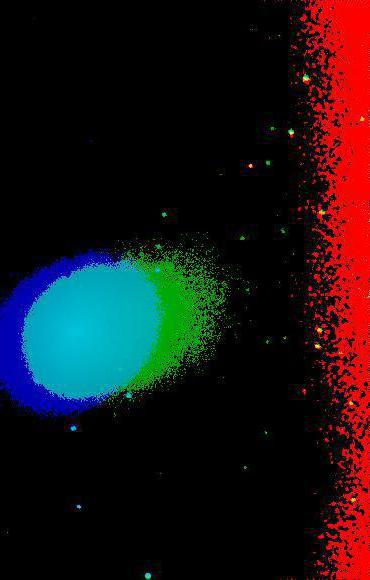star: (236, 150, 266, 180)
